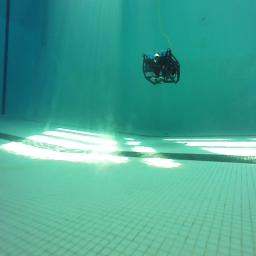front: (142, 48, 180, 85)
